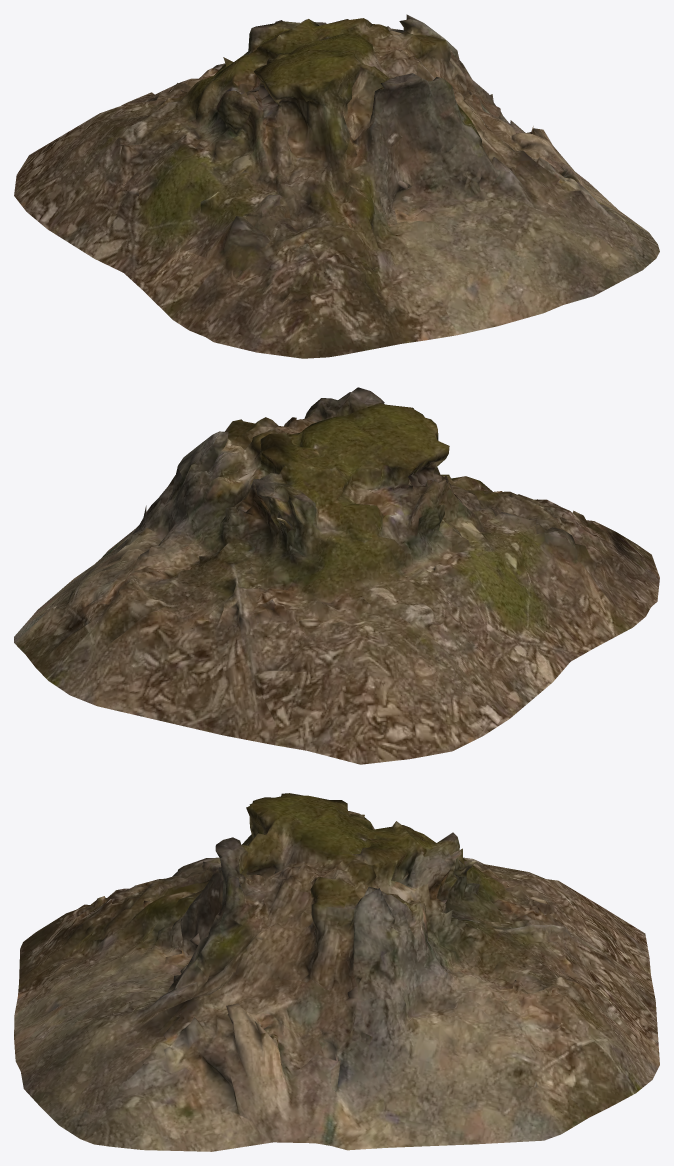
Rendered from tree-stump-01.glb.
3 views of the same model, one above another, from view 1: azimuth 30°, elevation 25°; view 2: azimuth 150°, elevation 25°; view 3: azimuth 270°, elevation 25° (orthographic). The views are drawn at different scales.
Parts seen in each view (by area): view 1: tree_stump_01; view 2: tree_stump_01; view 3: tree_stump_01.
Boxes of the visible parts, x1,y1,x2,y2 form: tree_stump_01: (14, 14, 659, 358); tree_stump_01: (14, 387, 659, 764); tree_stump_01: (14, 793, 659, 1151).
Bounding box in the file's own units: 1.43 × 0.571 × 1.59.
1 material, 1 textured.
